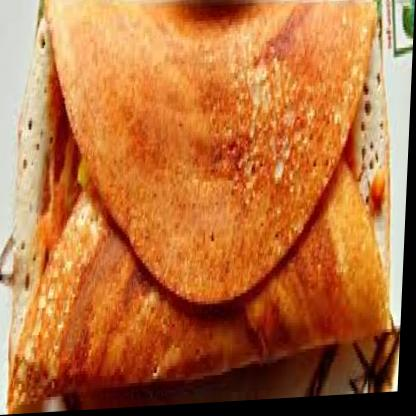dosa: (10, 0, 406, 415)
